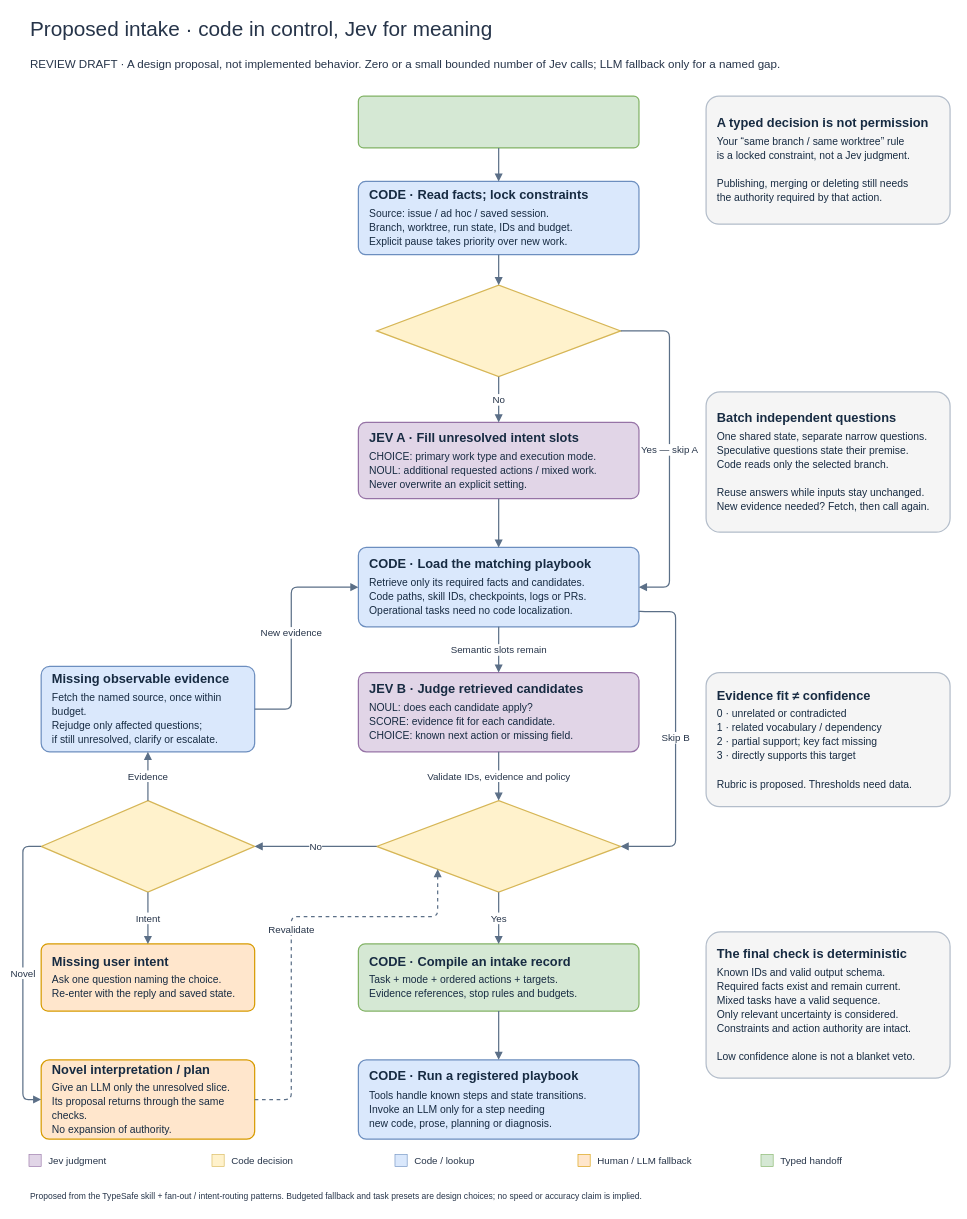
Some shapes in this 967 by 1219 pixel diagram are drawn without their labels. Here are the shapes that lost their labels. From the top down, the centre of each, then its label:
point (498, 121): Request + existing session Keep explicit task settings and user constraints.
point (498, 330): TOOL Required intent / mode already explicit?
point (147, 846): TOOL What is unresolved?
point (498, 846): TOOL Required fields resolved and checks pass?
